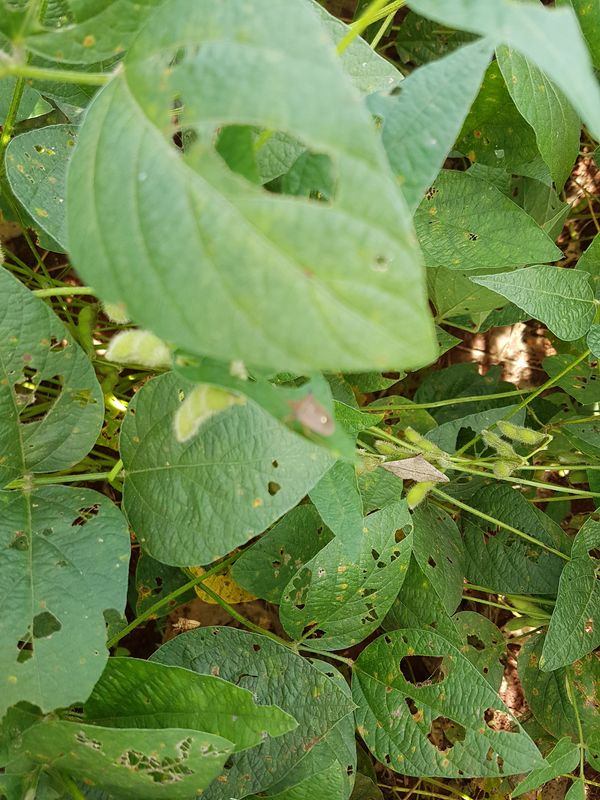Euschistus_heros_adulto: (273, 384, 347, 452)
